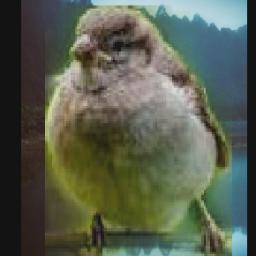Sparrow: (45, 6, 232, 256)
